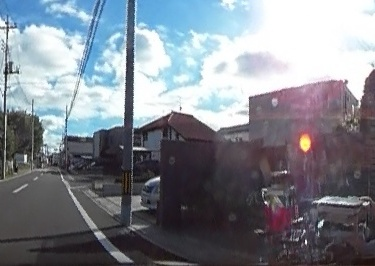person: (341, 78, 375, 261)
